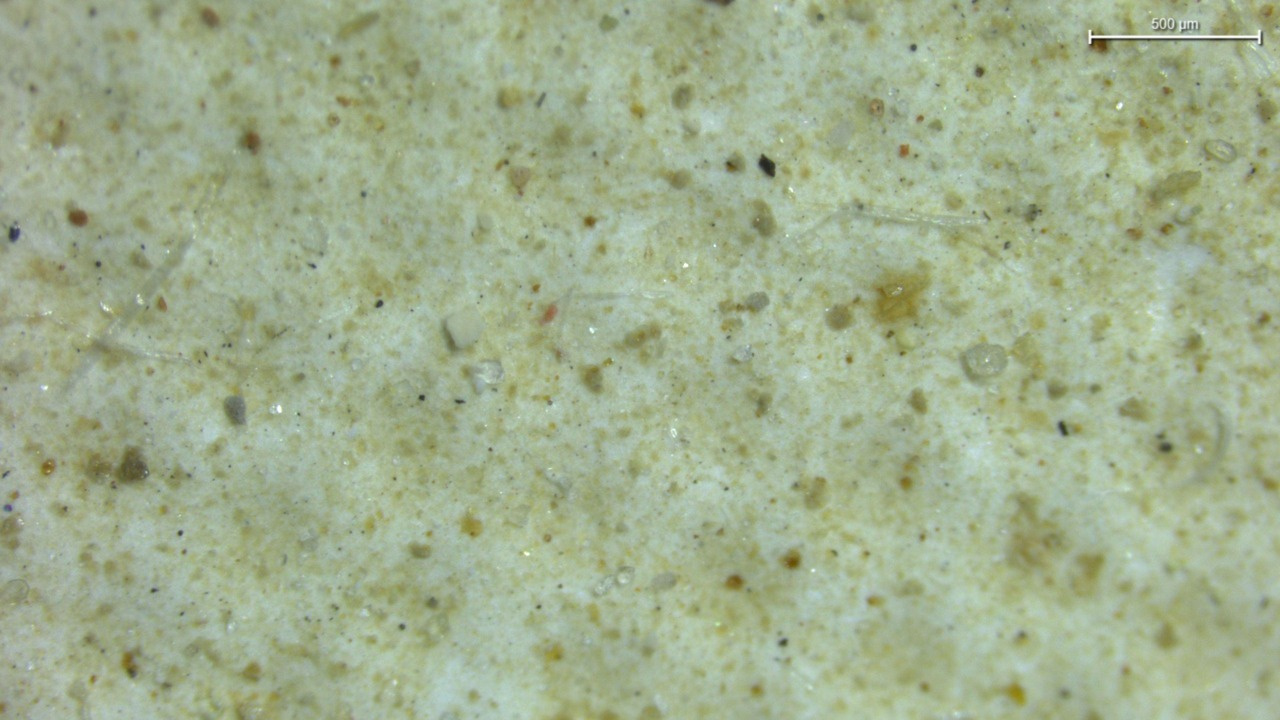microplastic_fragment: (960, 343, 1007, 382), (445, 309, 483, 349), (469, 360, 504, 394)
